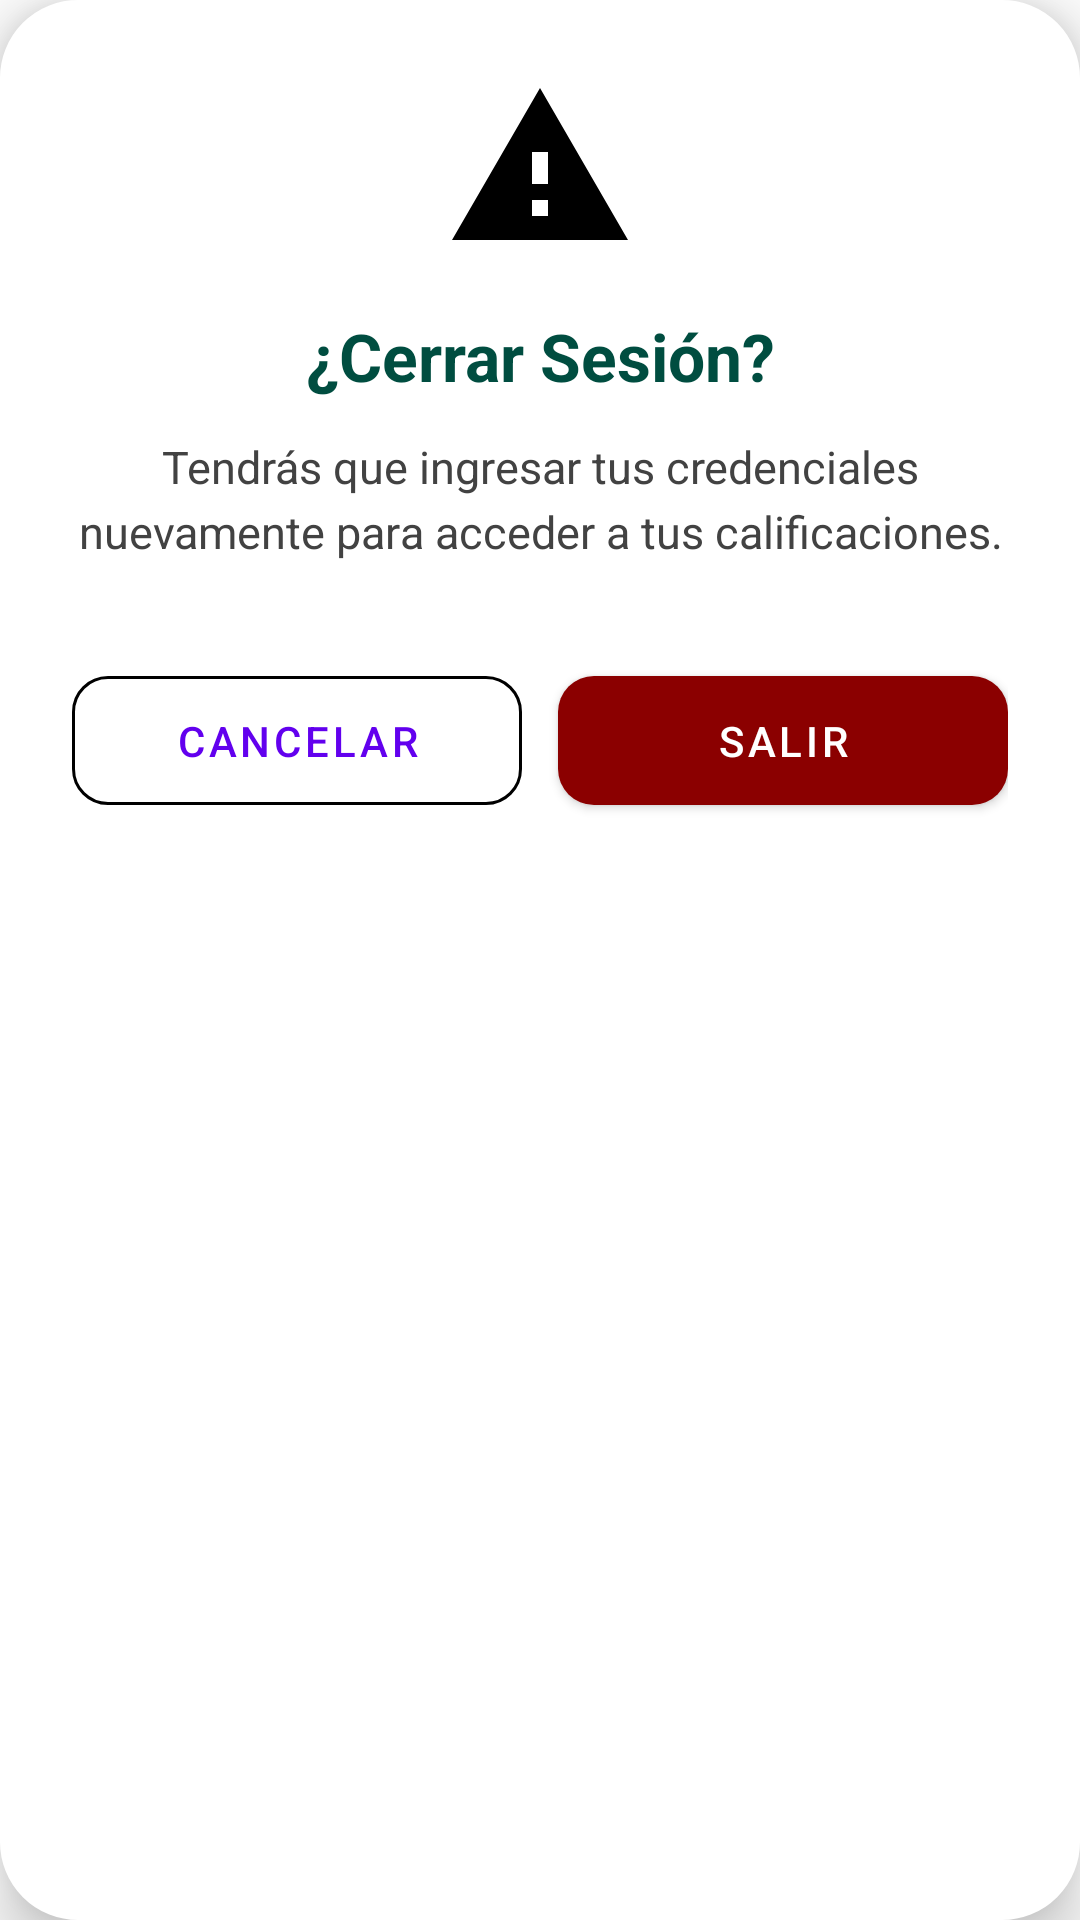

Icon bounding boxes for this 1080 × 1920 phone screenshot, format (x1, y1, x2, y2):
warning: (452, 88, 628, 240)
